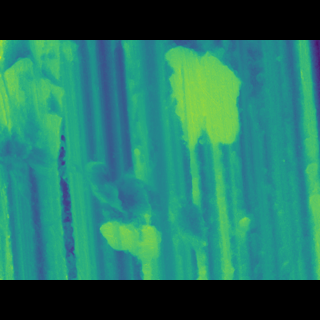Loch: (80, 157, 256, 251), (0, 80, 67, 198), (160, 69, 247, 158), (93, 201, 161, 251)
